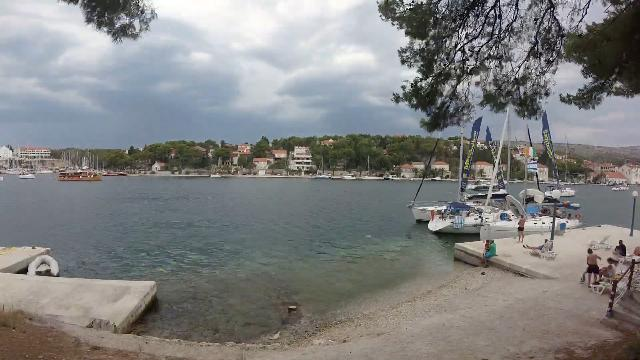Freighter: (56, 164, 106, 185)
Sailboat: (15, 167, 40, 181)
